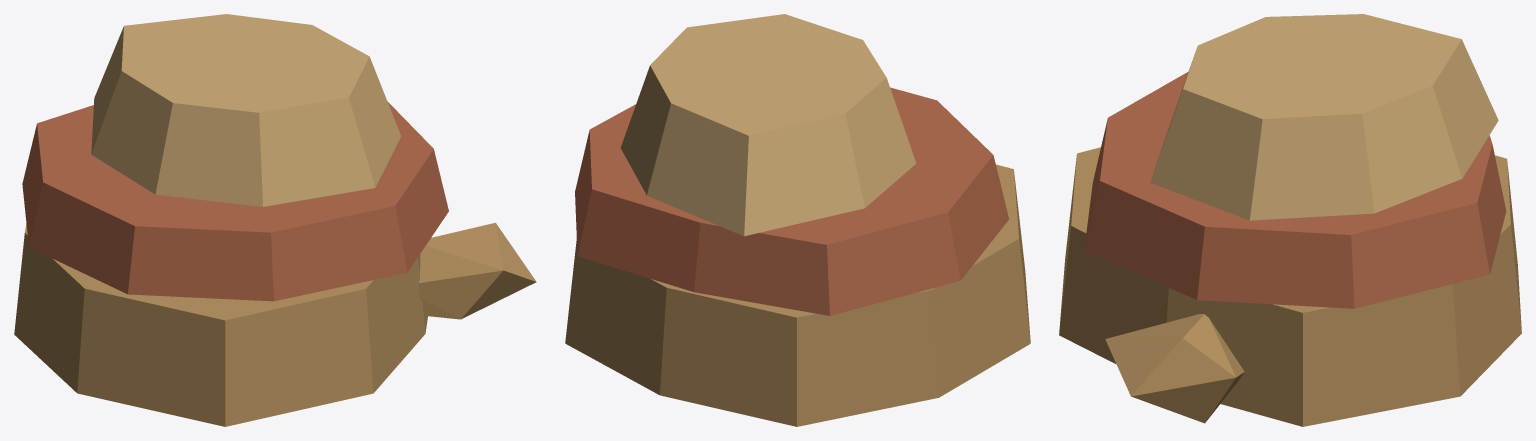
The model's file is Desert_Rock.fbx.
The picture shows the model from 3 angles, left to right: view 1: azimuth 30°, elevation 25°; view 2: azimuth 150°, elevation 25°; view 3: azimuth 270°, elevation 25°; orthographic projection. The views are drawn at different scales.
Visible parts, largest first — view 1: Rock, Top, Band; view 2: Rock, Top, Band; view 3: Top, Rock, Band.
Part boxes in pixels (x1=…): Rock: x1=14, y1=222, x2=536, y2=426; Top: x1=91, y1=14, x2=401, y2=206; Band: x1=22, y1=101, x2=448, y2=301; Rock: x1=565, y1=164, x2=1030, y2=426; Top: x1=620, y1=14, x2=916, y2=236; Band: x1=575, y1=87, x2=1008, y2=315; Top: x1=1150, y1=14, x2=1498, y2=220; Rock: x1=1059, y1=147, x2=1521, y2=426; Band: x1=1084, y1=71, x2=1506, y2=308.
Size of the model in its own units: 4.62 by 2.55 by 4.06.
